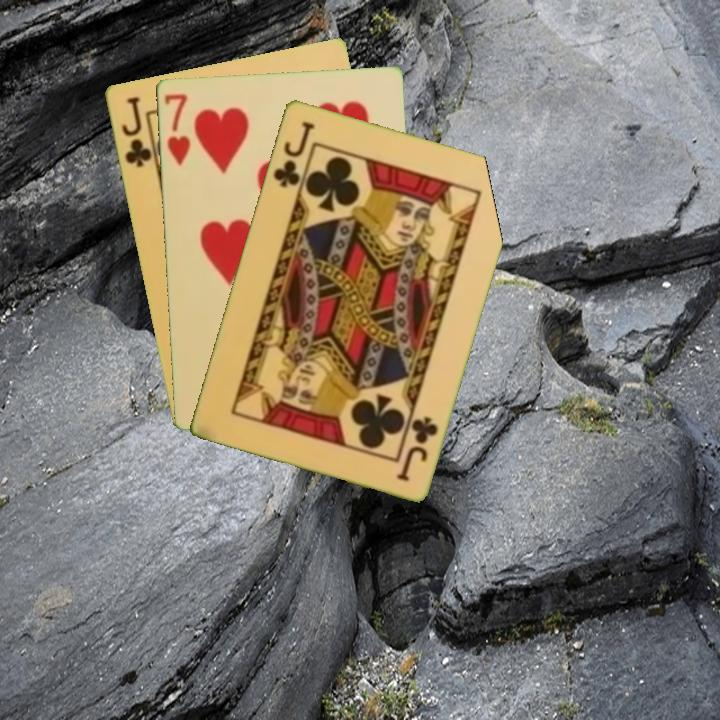7h: (161, 90, 193, 168)
Jc: (269, 117, 317, 190), (393, 412, 441, 484), (117, 92, 155, 170)
